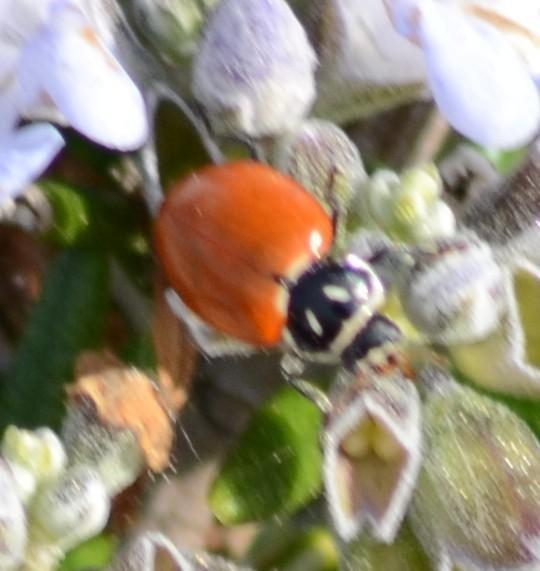ladybug: (151, 123, 408, 413)
